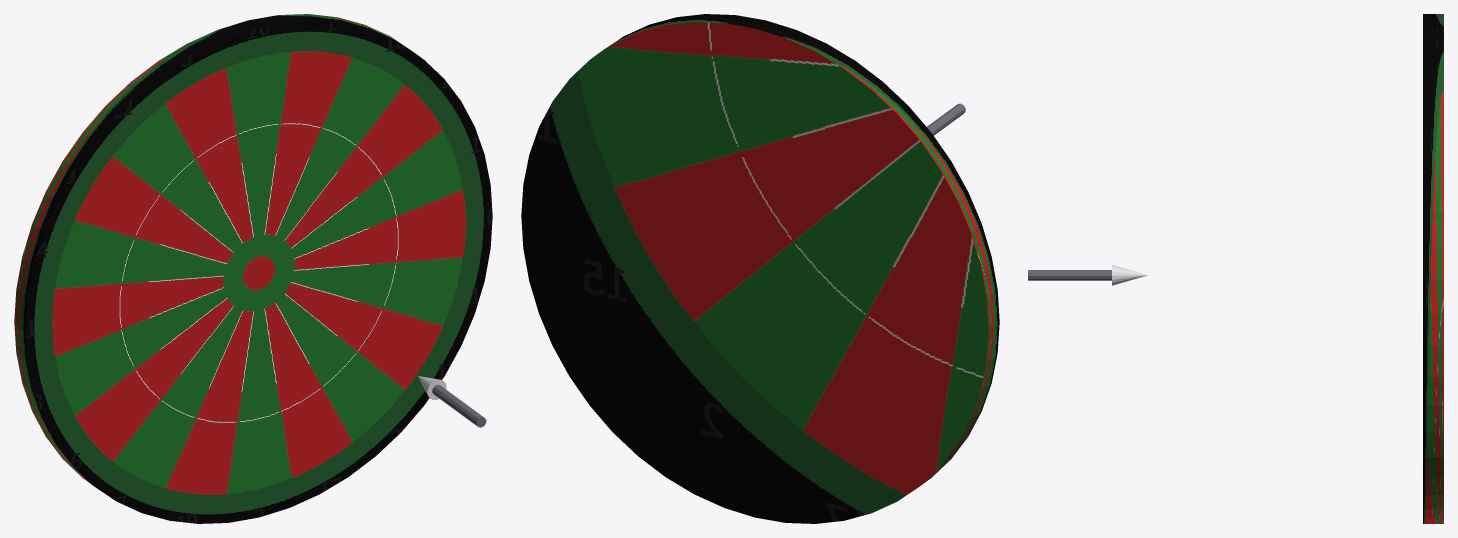
The model's file is darts_6tou_3d.glb.
The picture shows the model from 3 angles, left to right: view 1: azimuth 30°, elevation 25°; view 2: azimuth 150°, elevation 25°; view 3: azimuth 270°, elevation 25°; orthographic projection. The views are drawn at different scales.
Parts seen in each view (by area): view 1: darts_board, dart_shaft; view 2: darts_board; view 3: darts_board, dart_shaft.
Boxes of the visible parts, x1=… form: darts_board: x1=14, y1=14, x2=492, y2=523; dart_shaft: x1=432, y1=384, x2=486, y2=427; darts_board: x1=521, y1=14, x2=999, y2=523; darts_board: x1=1423, y1=14, x2=1443, y2=523; dart_shaft: x1=1028, y1=270, x2=1111, y2=280.
Size of the model in its own units: 1.7 by 1.7 by 1.39.
4 materials, 2 textured.
